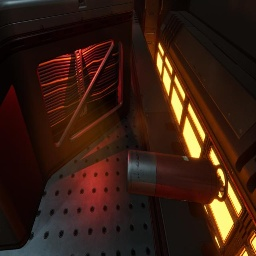NitrogenTank ,: (126, 149, 228, 204)
